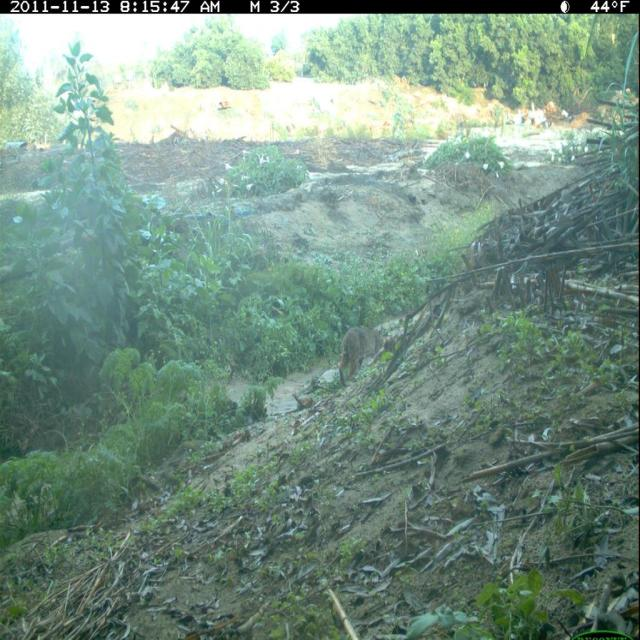bobcat: (337, 323, 391, 394)
